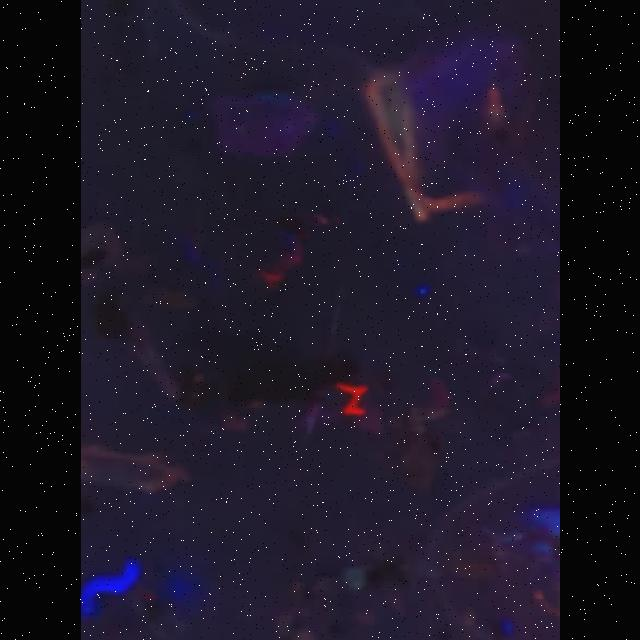Fragment: (366, 35, 527, 221)
